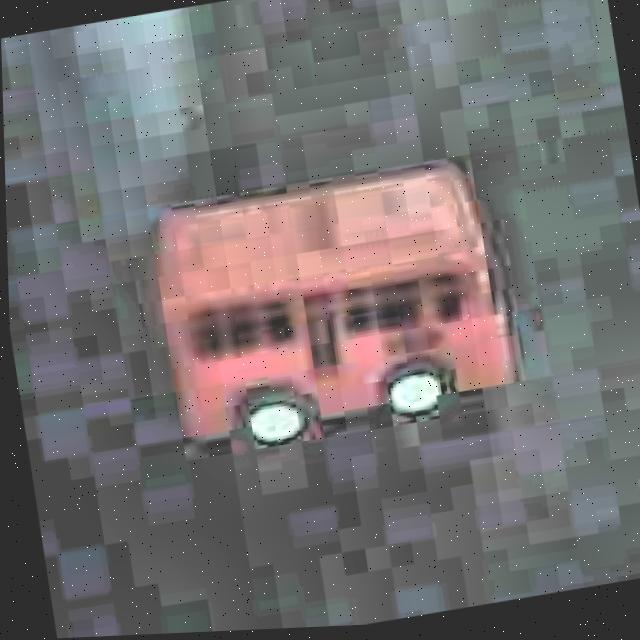bus: (130, 140, 537, 478)
